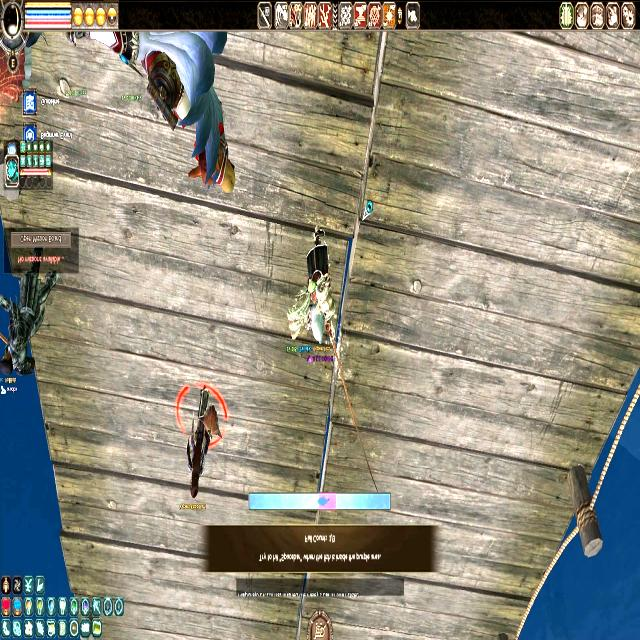fishes: (317, 494, 328, 508)
